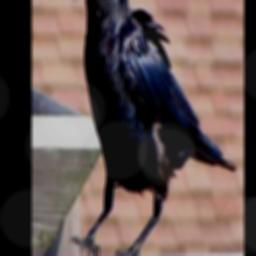Crow: (70, 0, 236, 256)
